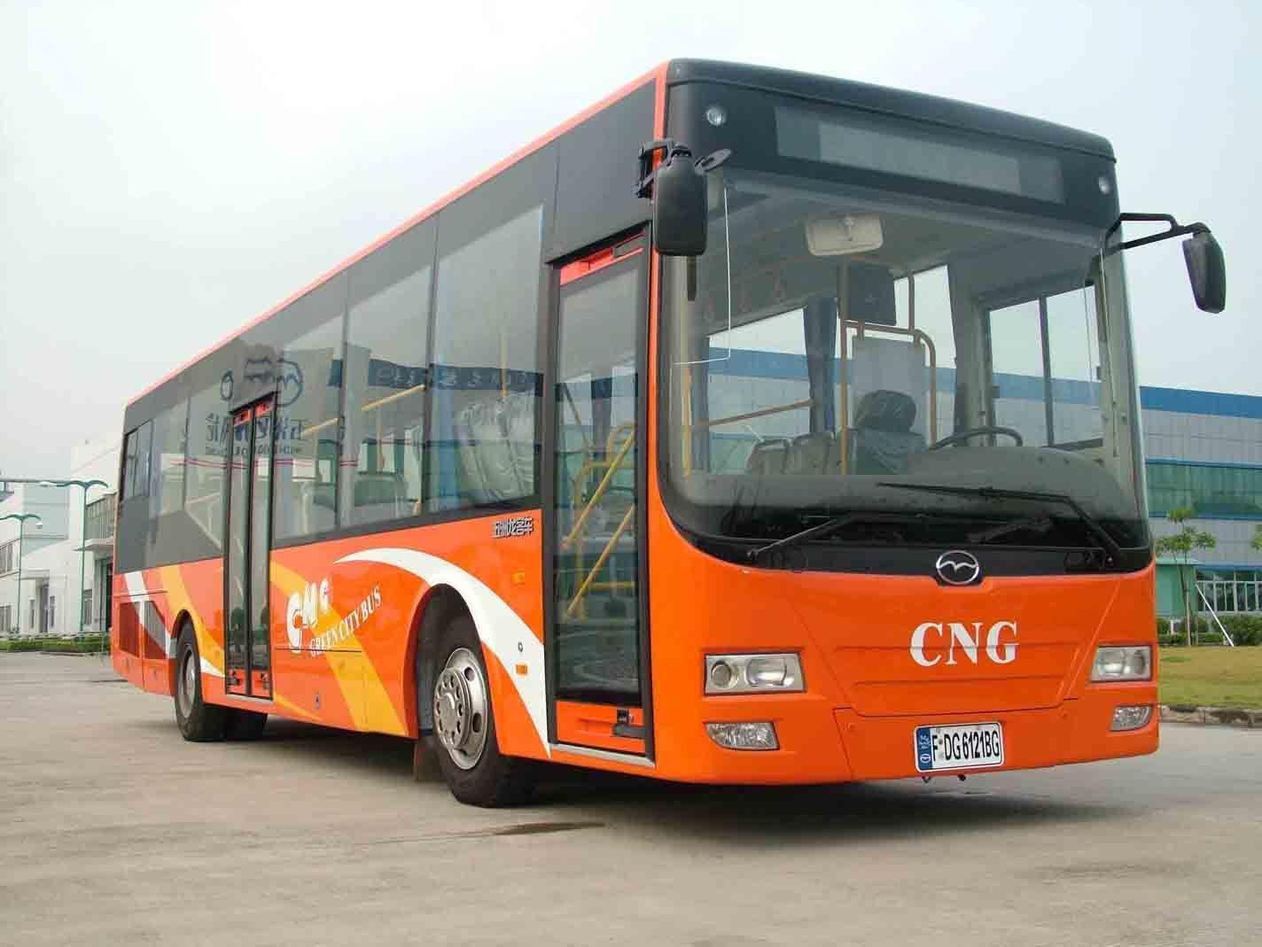Bus: (105, 58, 1225, 811)
